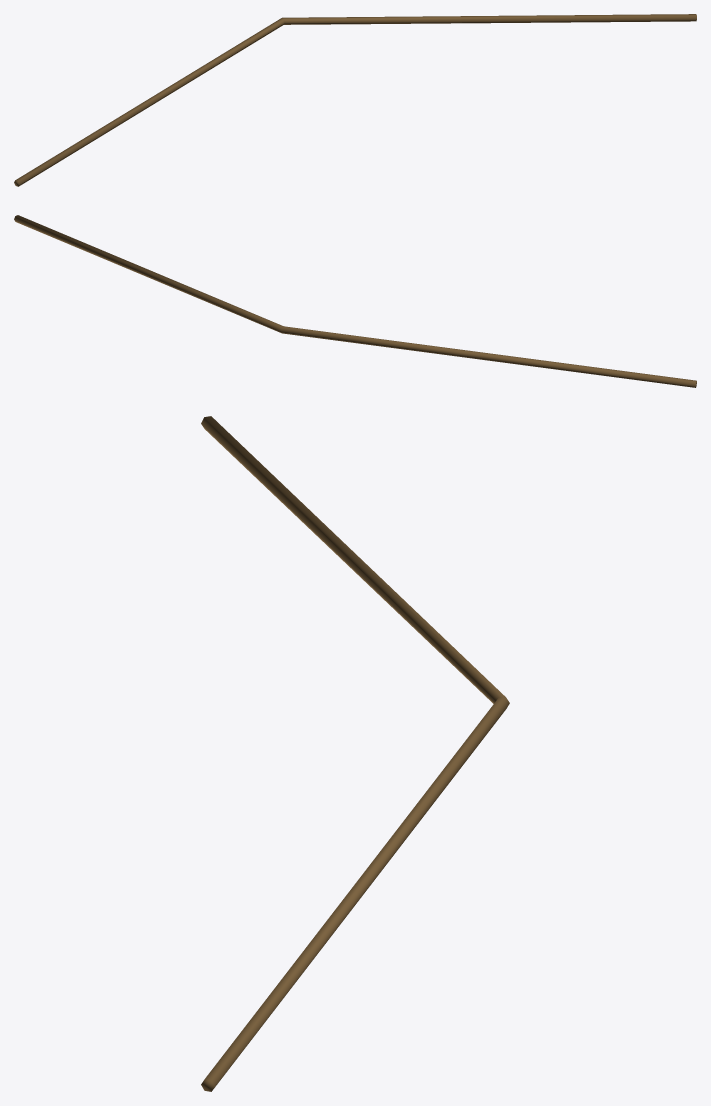
File: HandCrossbowString.obj
3 views of the same model, one above another, from view 1: azimuth 30°, elevation 25°; view 2: azimuth 150°, elevation 25°; view 3: azimuth 270°, elevation 25° (orthographic). The views are drawn at different scales.
Parts seen in each view (by area): view 1: HandCrossbowString; view 2: HandCrossbowString; view 3: HandCrossbowString.
Boxes of the visible parts, x1,y1,x2,y2 form: HandCrossbowString: [14, 14, 696, 186]; HandCrossbowString: [14, 215, 696, 387]; HandCrossbowString: [201, 416, 509, 1091].
Size of the model in its own units: 0.3411 by 0.0149 by 0.0669.
